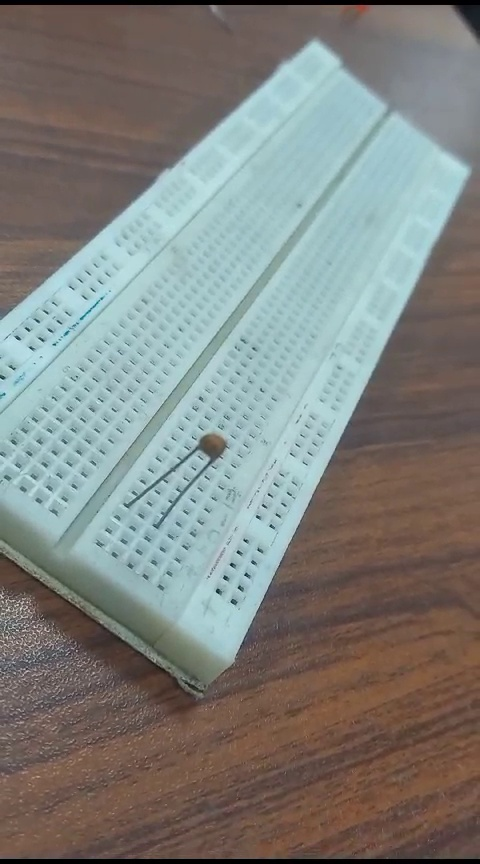ceramic capacitor: (122, 417, 244, 532)
